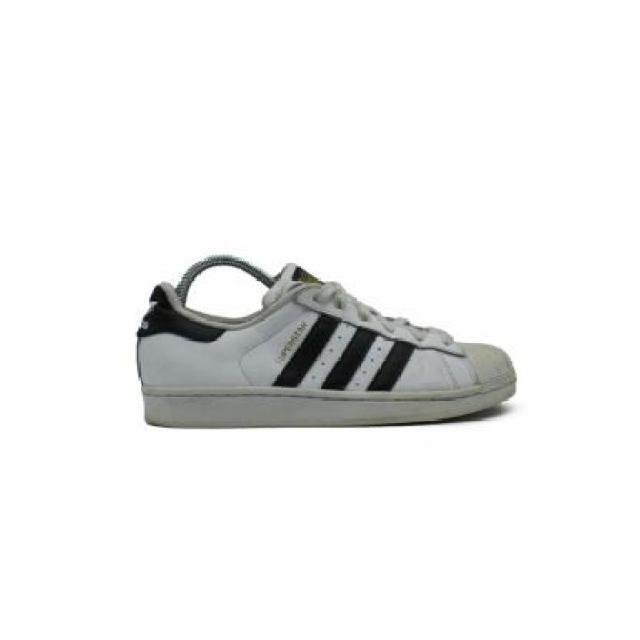Adidas: (276, 308, 419, 407)
